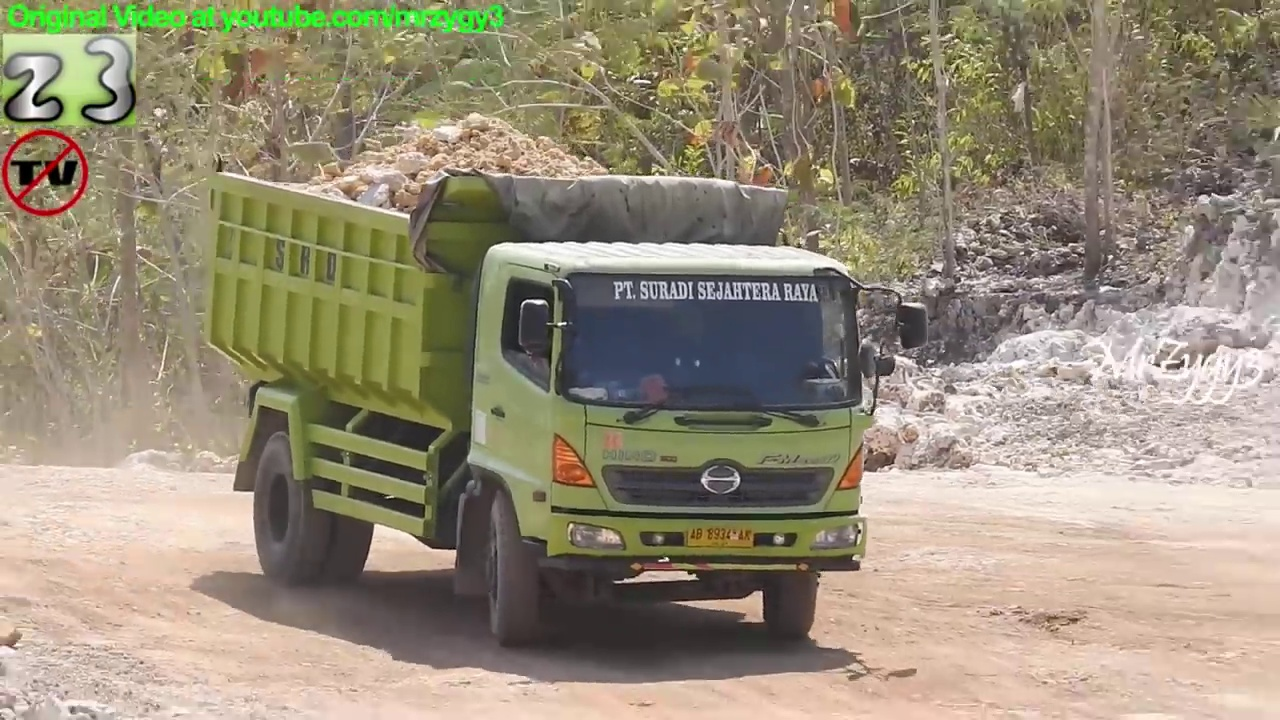truck: (199, 147, 943, 647)
